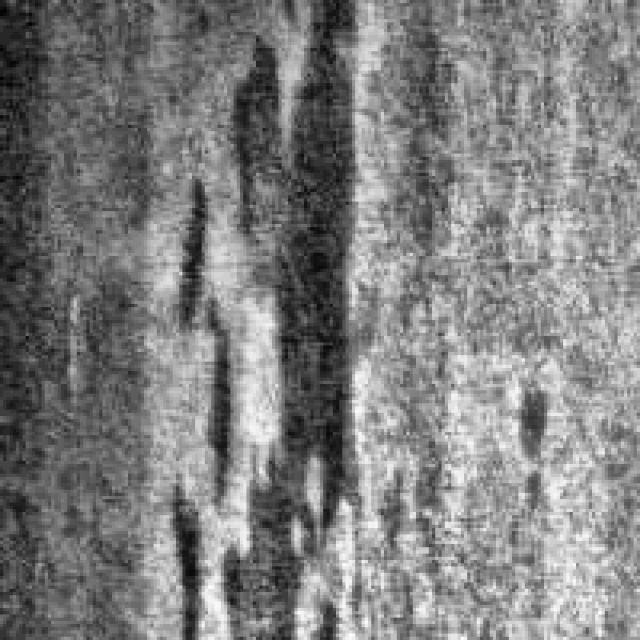Patches: (166, 29, 365, 630), (499, 374, 557, 500)
